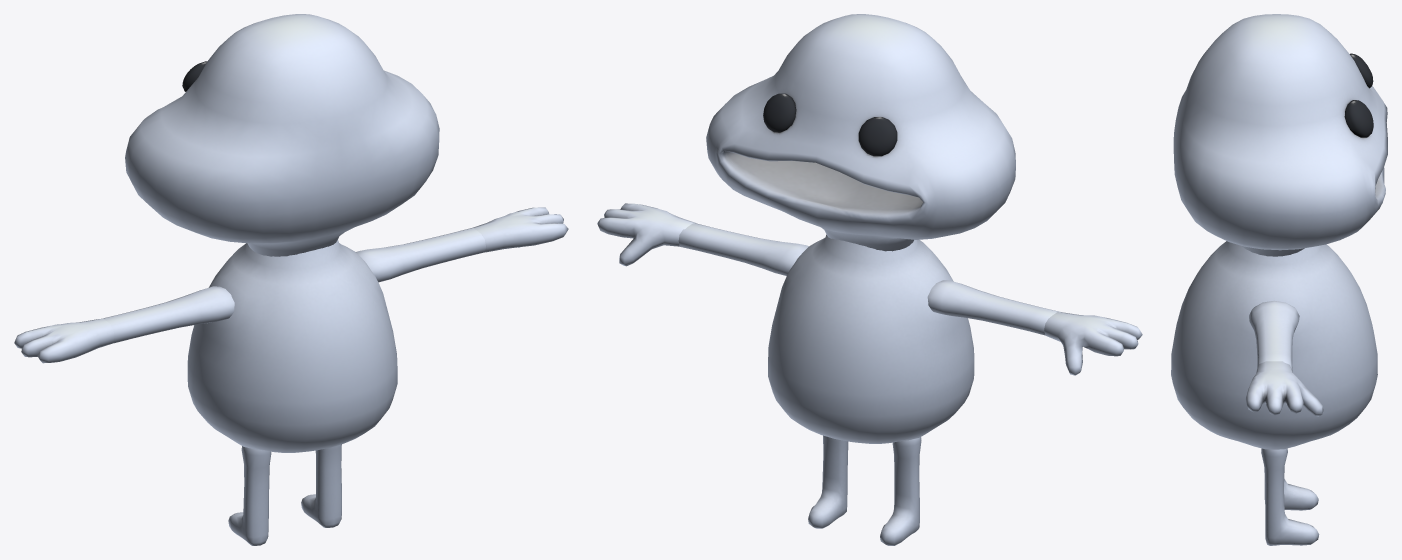
The model's file is Fricklet.obj.
3 views of the same model, side by side, from view 1: azimuth 30°, elevation 25°; view 2: azimuth 150°, elevation 25°; view 3: azimuth 270°, elevation 25° (orthographic).
Parts seen in each view (by area): view 1: Head, Body, ArmL, ArmR, HandL, LegL, HandR, LegR; view 2: Head, Body, ArmL, HandL, ArmR, HandR, LegL, LegR; view 3: Head, Body, LegR, HandR, ArmR, LegL.
Part boxes in pixels (x1,y1,x2,y2): Head: (125,14,439,256); Body: (187,240,397,452); ArmL: (103,286,234,343); ArmR: (356,228,485,282); HandL: (14,318,114,363); LegL: (228,446,271,545); HandR: (472,207,568,252); LegR: (301,444,341,527); Head: (706,14,1015,251); Body: (768,234,974,443); ArmL: (927,280,1061,335); HandL: (1044,312,1142,375); ArmR: (678,223,808,275); HandR: (597,203,695,266); LegL: (880,437,921,545); LegR: (808,435,848,528); Head: (1173,14,1387,256); Body: (1171,241,1377,449); LegR: (1261,448,1319,545); HandR: (1245,361,1323,416); ArmR: (1249,300,1299,370); LegL: (1264,479,1318,510).
Size of the model in its own units: 3.98 by 3.55 by 1.4.
Materials: 8 (8 with a texture image).
